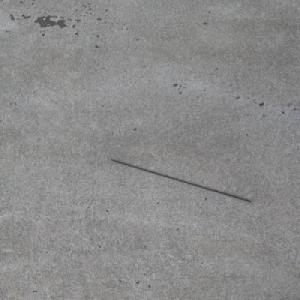LuggagePart: (109, 158, 252, 203)
